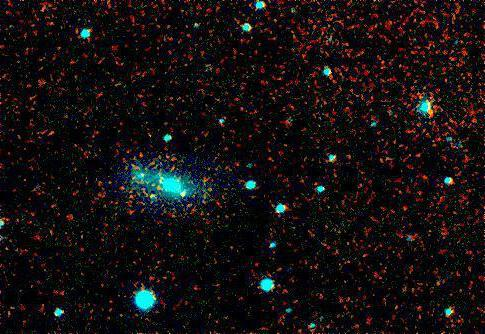star: (170, 179, 200, 209)
